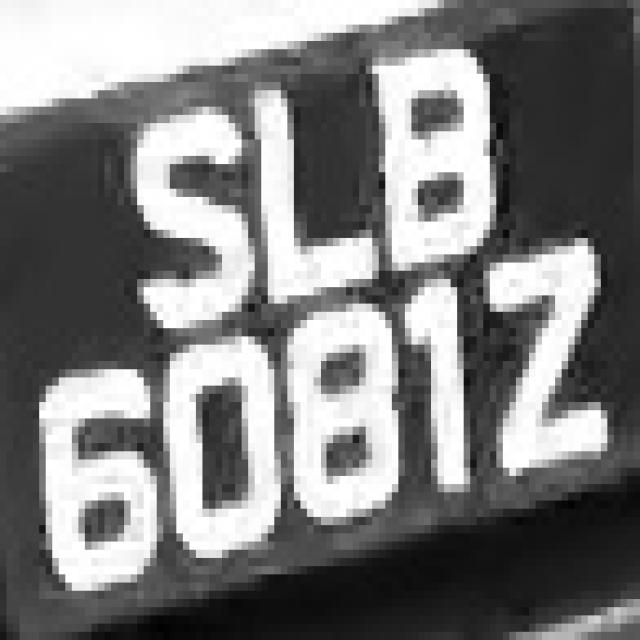0: (170, 304, 287, 574)
1: (392, 221, 490, 558)
6: (33, 336, 176, 591)
8: (268, 287, 418, 558)
B: (346, 41, 496, 287)
L: (242, 49, 385, 312)
S: (111, 73, 261, 344)
Z: (470, 213, 614, 517)
